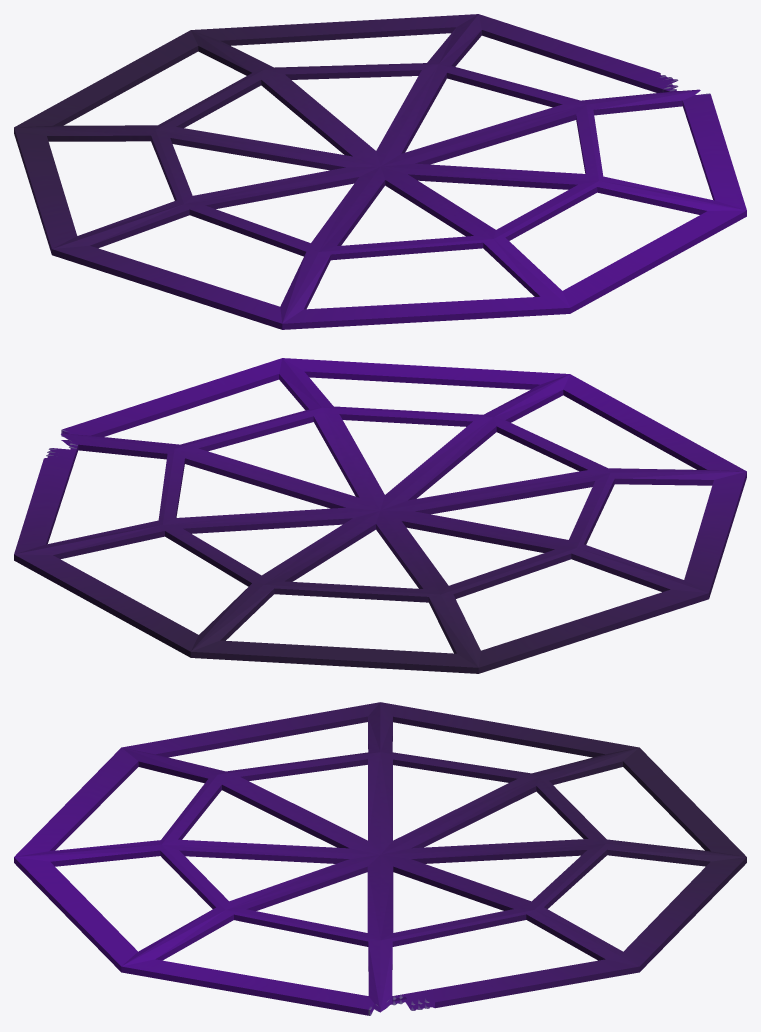
File: Spiderweb_grounded.obj
3 views of the same model, one above another, from view 1: azimuth 30°, elevation 25°; view 2: azimuth 150°, elevation 25°; view 3: azimuth 270°, elevation 25° (orthographic). The views are drawn at different scales.
Parts seen in each view (by area): view 1: Cone.004; view 2: Cone.004; view 3: Cone.004.
Part boxes in pixels (<box>): Cone.004: <box>14,14,746,329</box>; Cone.004: <box>14,358,746,673</box>; Cone.004: <box>14,702,746,1015</box>.
Size of the model in its own units: 9.83 by 0.2895 by 9.83.
Materials: 1 (1 with a texture image).
